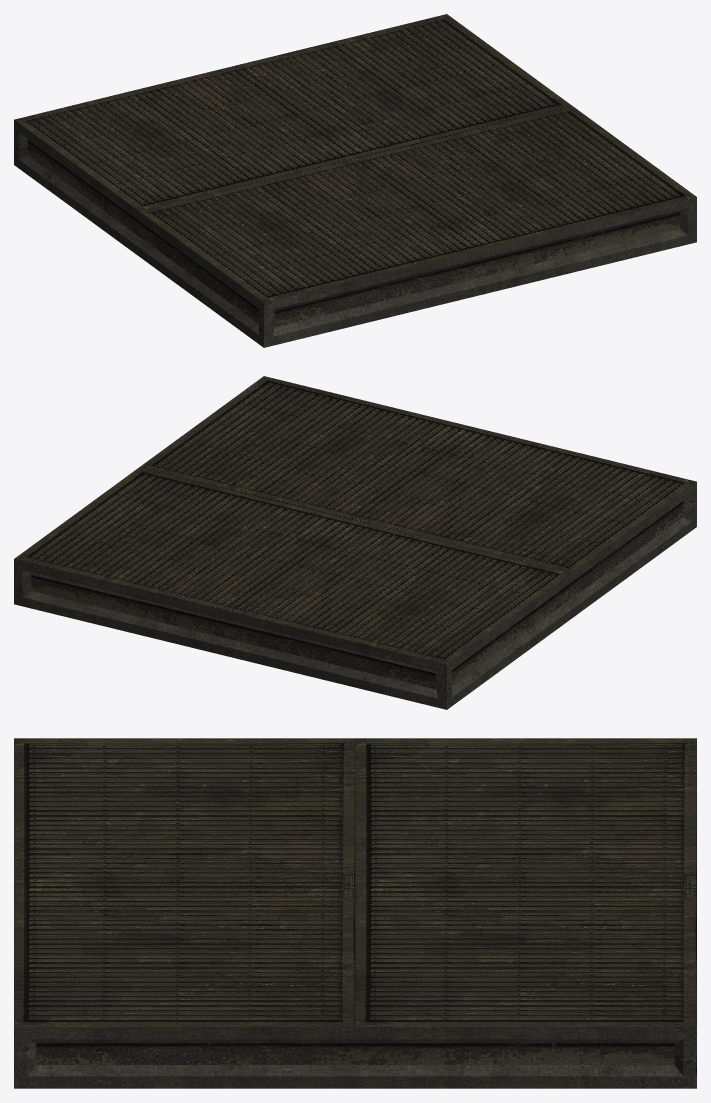
Rendered from floor_ceiling_hy_1.glb.
3 renders of one model, top to bottom at view 1: azimuth 30°, elevation 25°; view 2: azimuth 150°, elevation 25°; view 3: azimuth 270°, elevation 25°, orthographic. The views are drawn at different scales.
Parts seen in each view (by area): view 1: floor_ceiling_hy_1; view 2: floor_ceiling_hy_1; view 3: floor_ceiling_hy_1.
Boxes of the visible parts, bbox=[...] form: floor_ceiling_hy_1: bbox=[14, 14, 696, 347]; floor_ceiling_hy_1: bbox=[14, 376, 696, 709]; floor_ceiling_hy_1: bbox=[14, 738, 696, 1088].
Bounding box in the file's own units: 4 × 0.4 × 4.
3 materials, 3 textured.
